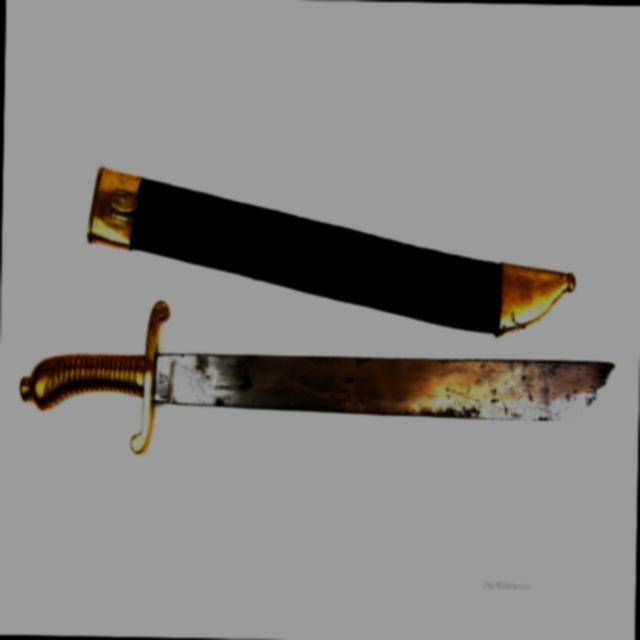short sword: (13, 144, 622, 501)
